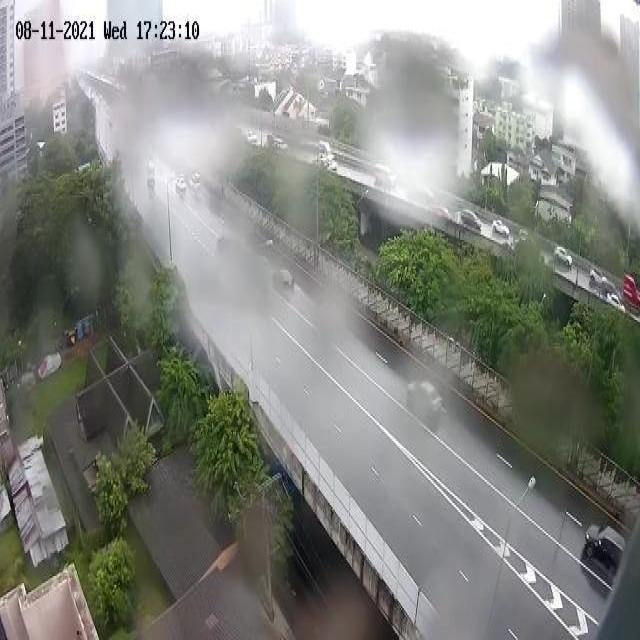Car: (586, 518, 626, 567), (407, 373, 443, 422), (272, 264, 296, 294), (602, 291, 626, 319), (460, 207, 483, 234), (552, 243, 573, 271), (588, 263, 608, 290), (489, 220, 512, 238)
